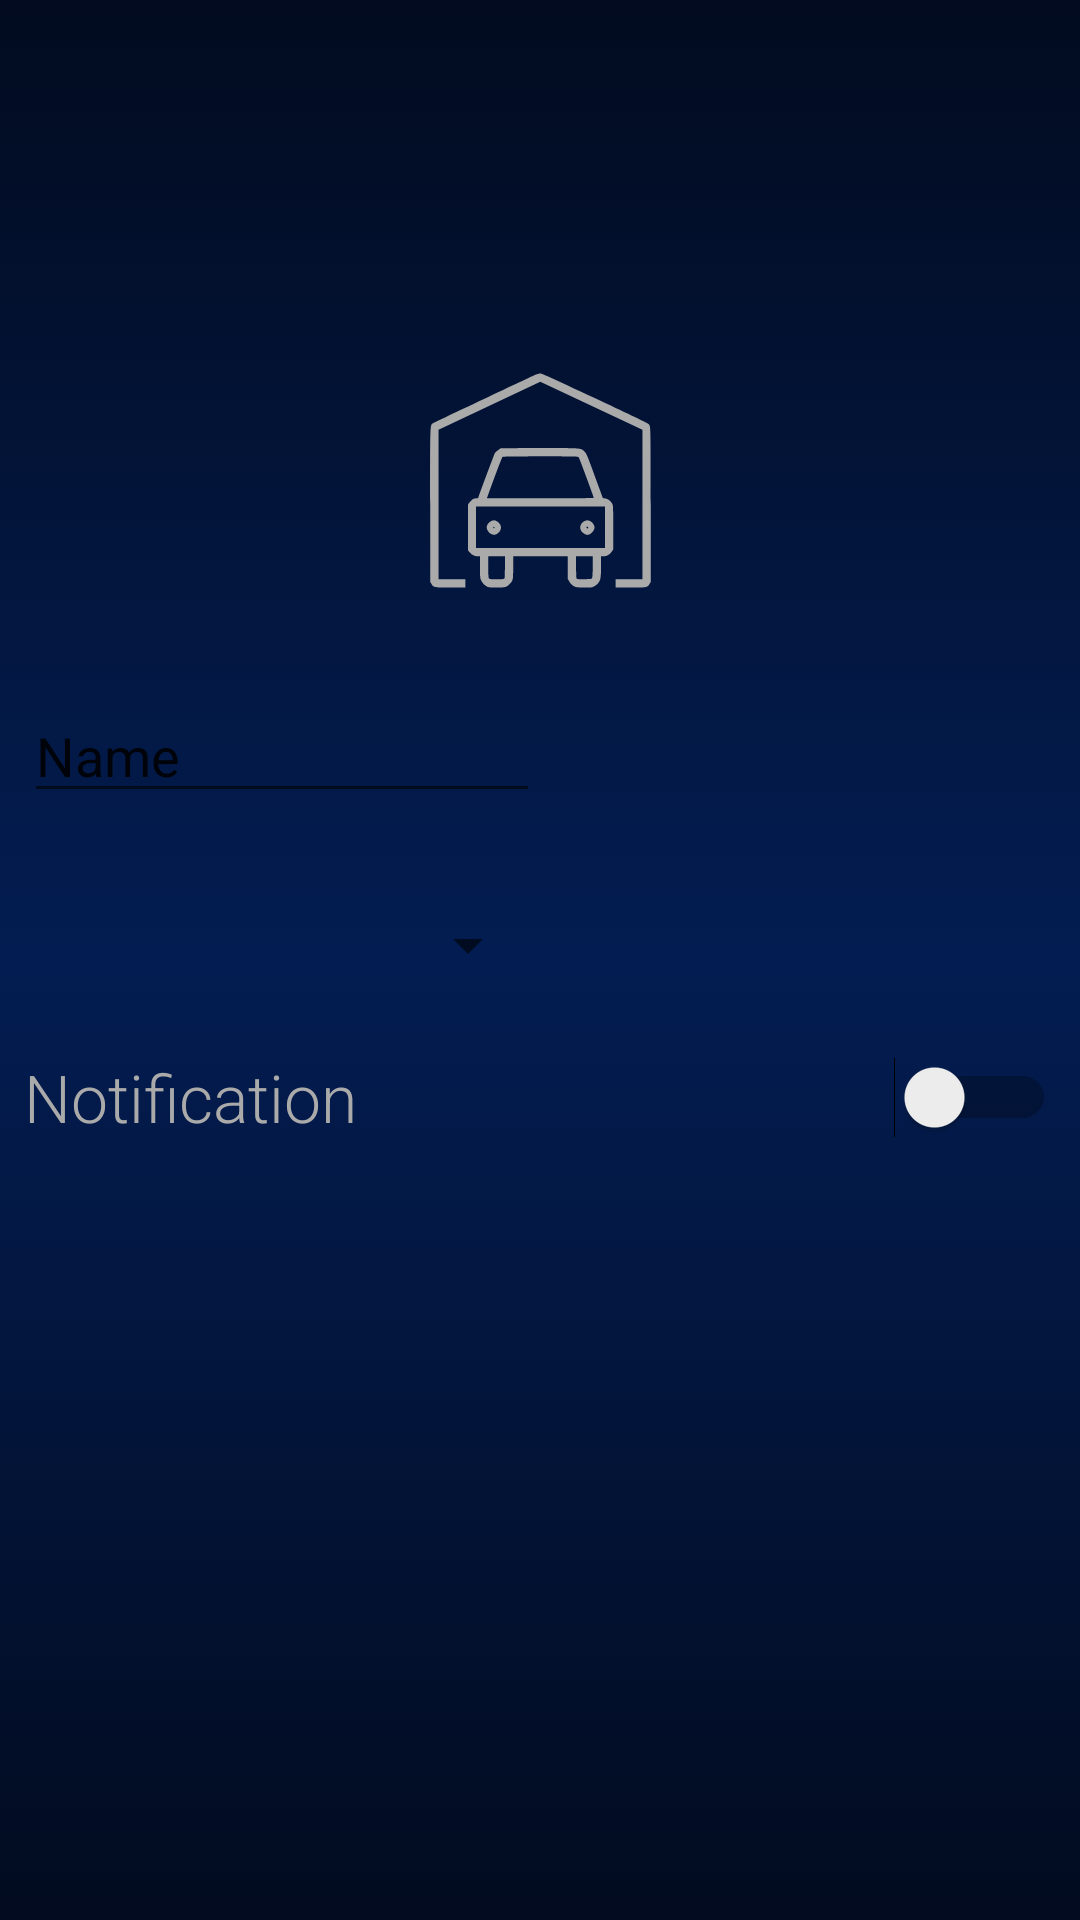

Icons on this 1080px x 1920px Android screen, each with its box as (left=x1, top=y1, right=x2, bottom=y2):
garage: (left=430, top=373, right=651, bottom=588)
